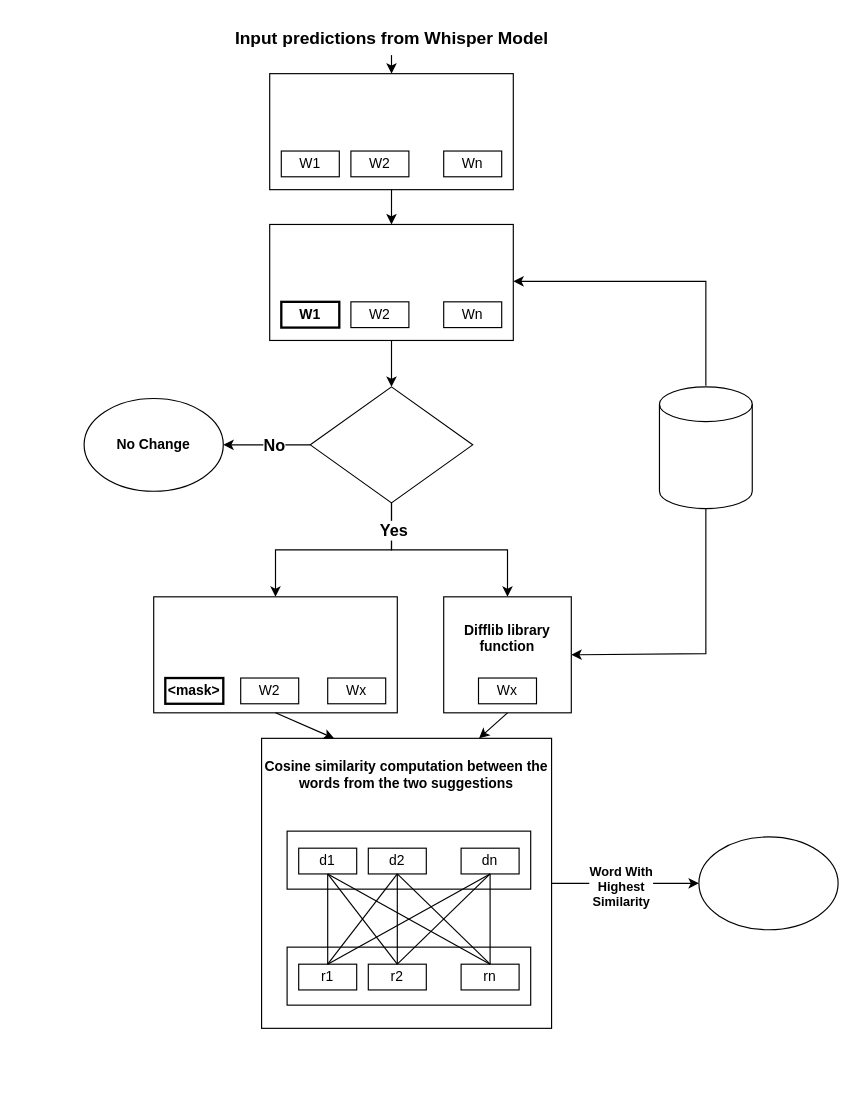
This 858x1094 diagram has some shape labels left out. Here are the shapes that lost their labels. From the top down, the box of each, then its label:
(269, 72, 513, 190): Tokenization
(269, 223, 513, 340): Spell Checking
(309, 386, 473, 503): Error in spelling ?
(658, 386, 752, 509): Unique Words Corpus
(153, 596, 397, 713): XLM Roberta Large Model (Masking)
(698, 836, 838, 930): Output Word
